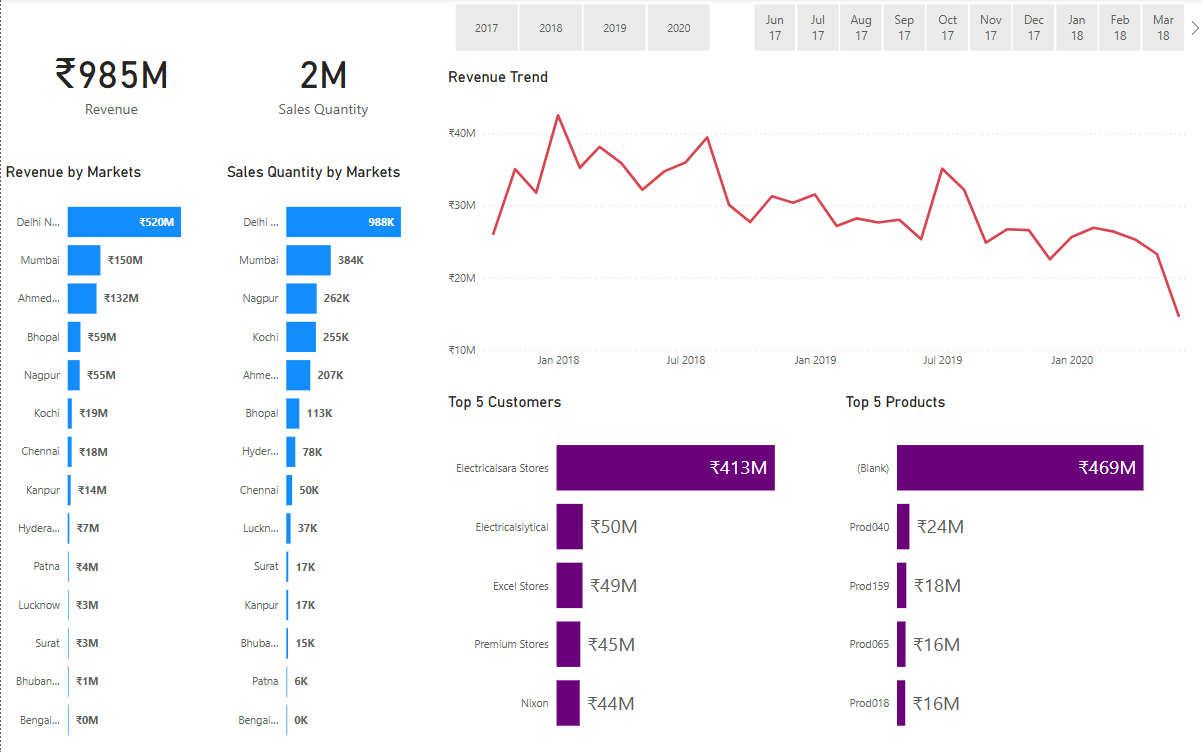

What the dashboard file says about the page in this screenshot:
{"tool":"powerbi","page":{"name":"Key Insights","canvas":[1350,850],"ordinal":0},"visuals":[{"type":"card","fields":{"Values":["BaseMeasures (2).Revenue"]},"box":[0,0,247.9,184.6],"z":0},{"type":"card","fields":{"Values":["BaseMeasures (2).Sales Qty"]},"box":[248.1,0,227.1,185],"z":1000},{"type":"barChart","title":"Revenue by Markets","fields":{"Y":["BaseMeasures (2).Revenue"],"Category":["sales markets.markets_name"]},"box":[0,185,248.1,664.4],"z":2000},{"type":"barChart","title":"Sales Quantity by Markets","fields":{"Y":["BaseMeasures (2).Sales Qty"],"Category":["sales markets.markets_name"]},"box":[248.1,185,235.5,664.4],"z":3000},{"type":"slicer","fields":{"Values":["sales date.year"]},"box":[483.2,0,335.5,66.5],"z":4000},{"type":"slicer","fields":{"Values":["sales date.cy_date"]},"box":[818.6,0,531.7,66.5],"z":5000},{"type":"barChart","title":"Top 5 Customers","fields":{"Y":["BaseMeasures (2).Revenue"],"Category":["sales customers.custmer_name"]},"box":[496.2,442.9,445.8,406.5],"z":6000},{"type":"barChart","title":"Top 5 Products","fields":{"Y":["BaseMeasures (2).Revenue"],"Category":["sales products.product_code"]},"box":[942,442.9,407.9,406.5],"z":7000},{"type":"lineChart","title":"Revenue Trend","fields":{"Y":["BaseMeasures (2).Revenue"],"Category":["sales date.cy_date"]},"box":[496.2,78.5,853.7,346.2],"z":8000}]}

Visuals, with their boxes in screenshot pixels (x1, y1, x2, y2), scaled from the page's 1350x850 canvas onto the 1203x752 screenshot:
card - BaseMeasures (2).Revenue: pyautogui.locateOnScreen(0, 0, 221, 163)
card - BaseMeasures (2).Sales Qty: pyautogui.locateOnScreen(221, 0, 423, 164)
"Revenue by Markets" barChart: pyautogui.locateOnScreen(0, 164, 221, 751)
"Sales Quantity by Markets" barChart: pyautogui.locateOnScreen(221, 164, 431, 751)
slicer - sales date.year: pyautogui.locateOnScreen(431, 0, 730, 59)
slicer - sales date.cy_date: pyautogui.locateOnScreen(729, 0, 1202, 59)
"Top 5 Customers" barChart: pyautogui.locateOnScreen(442, 392, 839, 751)
"Top 5 Products" barChart: pyautogui.locateOnScreen(839, 392, 1202, 751)
"Revenue Trend" lineChart: pyautogui.locateOnScreen(442, 69, 1202, 376)
